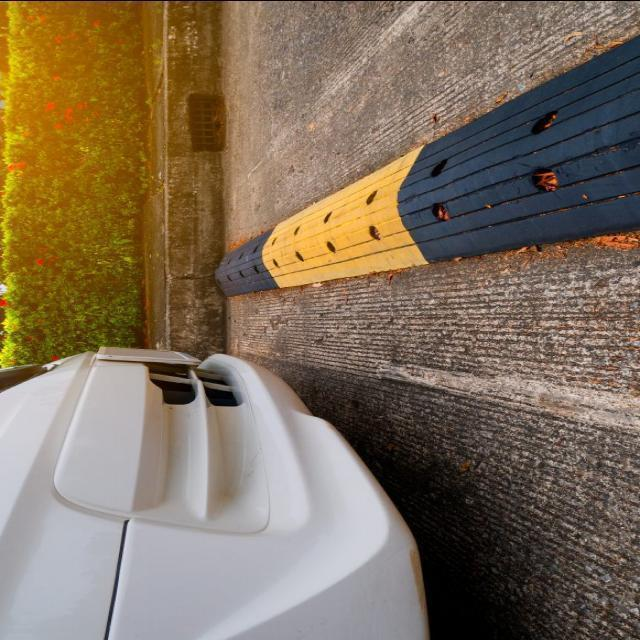speedbreaker: (202, 42, 640, 298)
